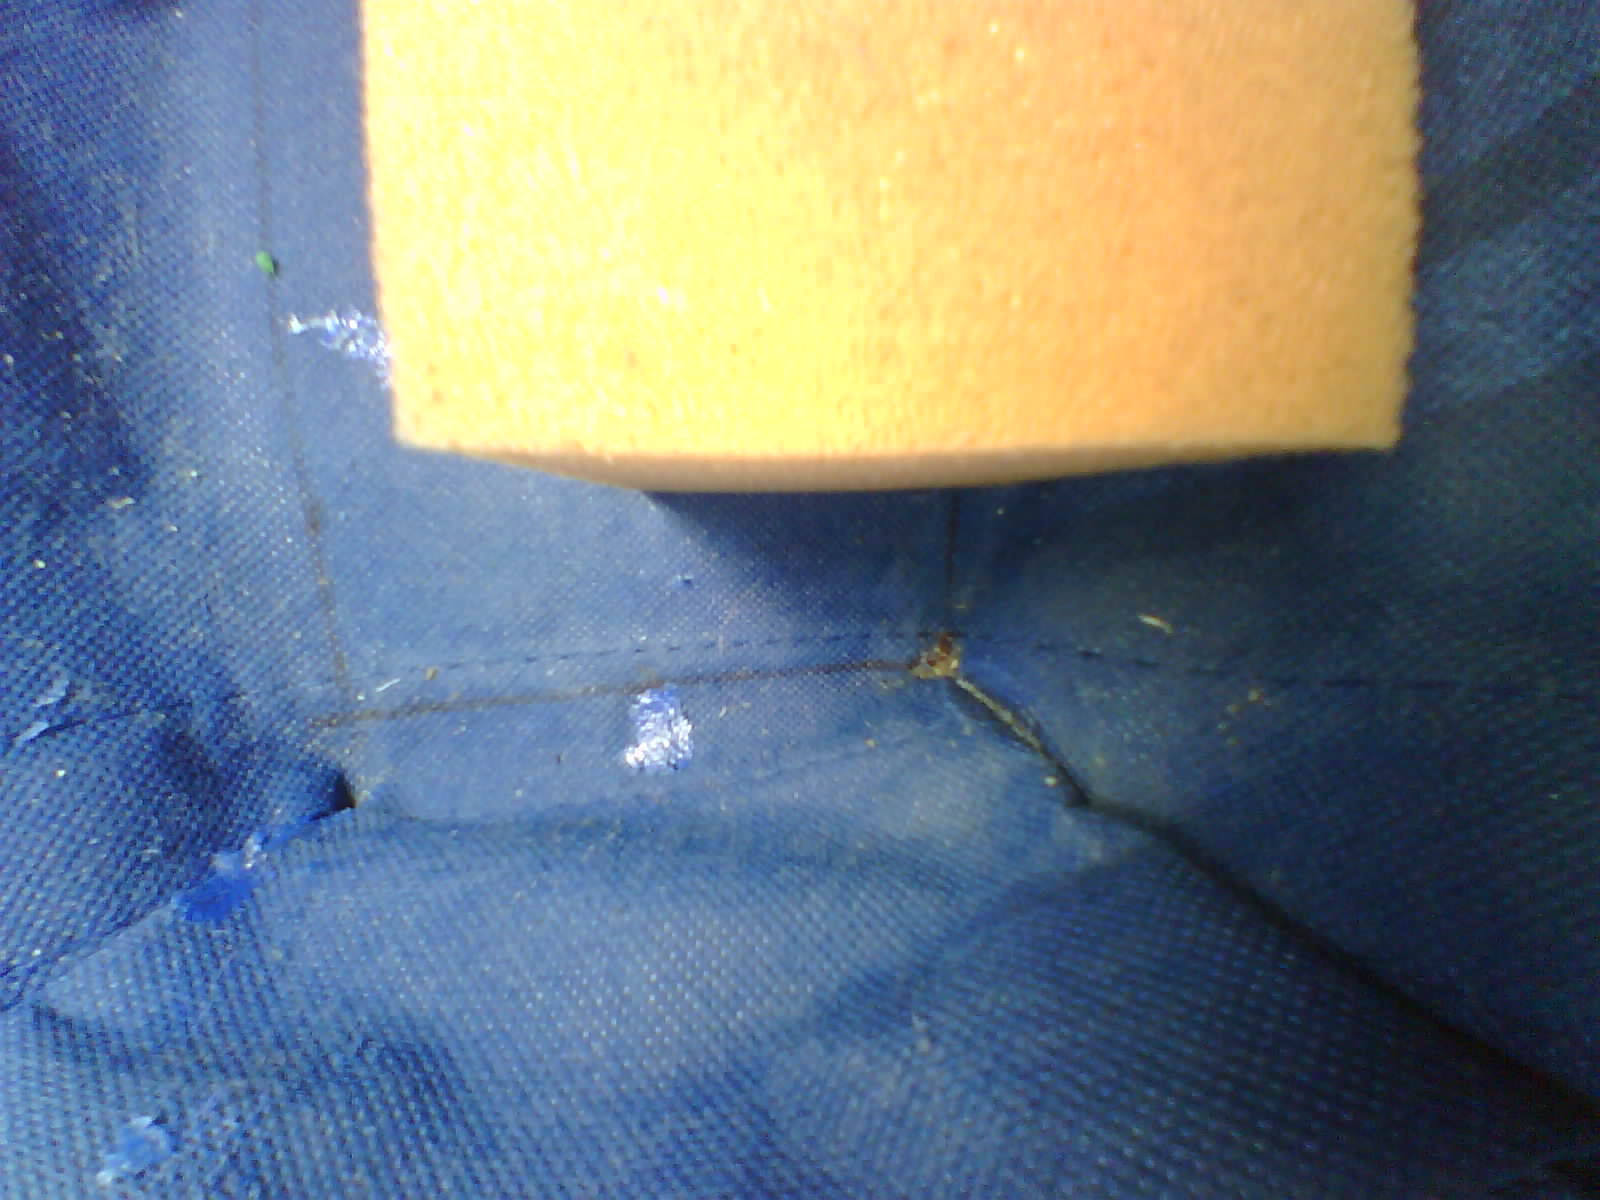cube-soft: (321, 0, 1464, 519)
